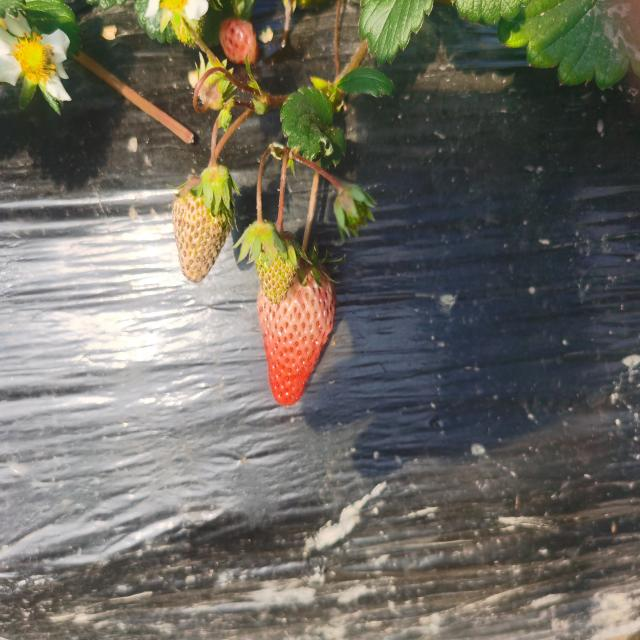stem: (299, 198, 316, 264)
strawberry: (257, 257, 337, 407), (172, 177, 235, 282)
